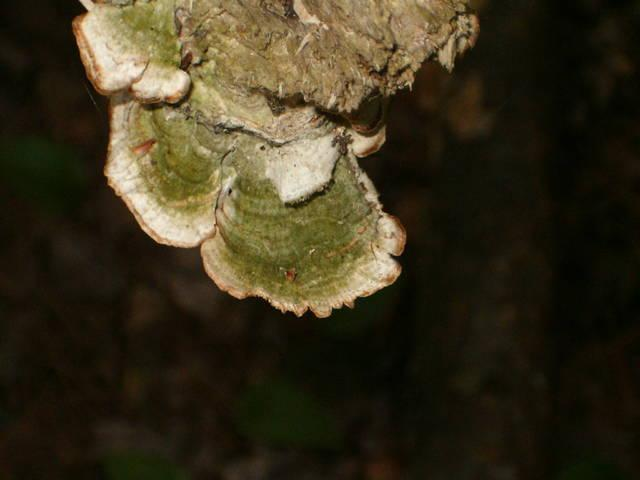Non-edible Mushroom: (69, 0, 481, 319)
